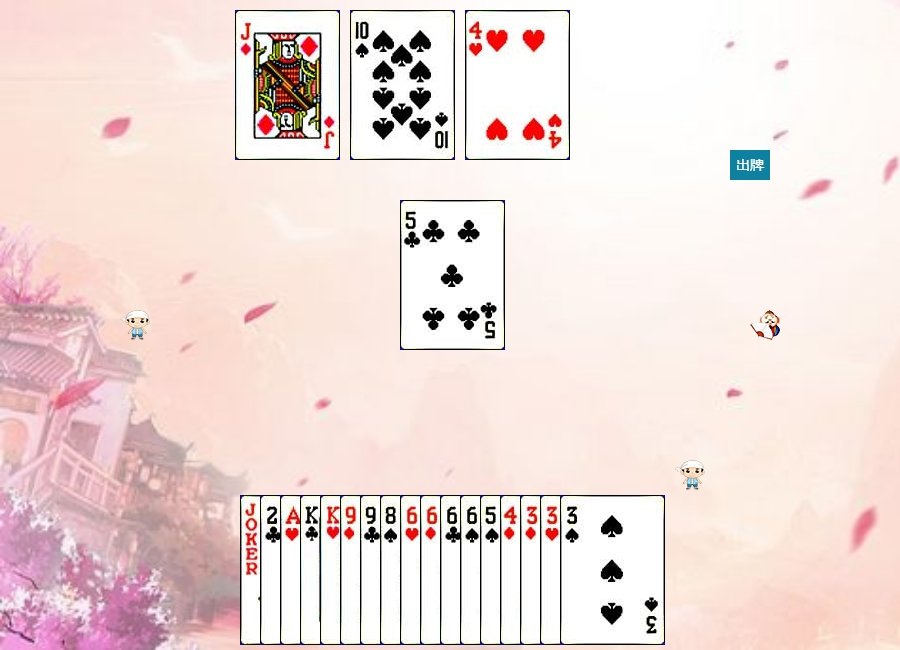10~4: (350, 10, 455, 160)
11~1: (235, 10, 340, 160)
13~2: (300, 495, 405, 645)
13~3: (320, 495, 425, 645)
14~3: (280, 495, 385, 645)
15~2: (260, 495, 365, 645)
18~4: (240, 495, 345, 645)
3~1: (520, 495, 625, 645)
3~3: (540, 495, 645, 645)
3~4: (560, 495, 665, 645)
4~1: (500, 495, 605, 645)
4~3: (465, 10, 570, 160)
5~2: (400, 200, 505, 350)
5~4: (480, 495, 585, 645)
6~1: (420, 495, 525, 645)
6~2: (440, 495, 545, 645)
6~3: (400, 495, 505, 645)
6~4: (460, 495, 565, 645)
8~4: (380, 495, 485, 645)
9~1: (340, 495, 445, 645)
9~2: (360, 495, 465, 645)
